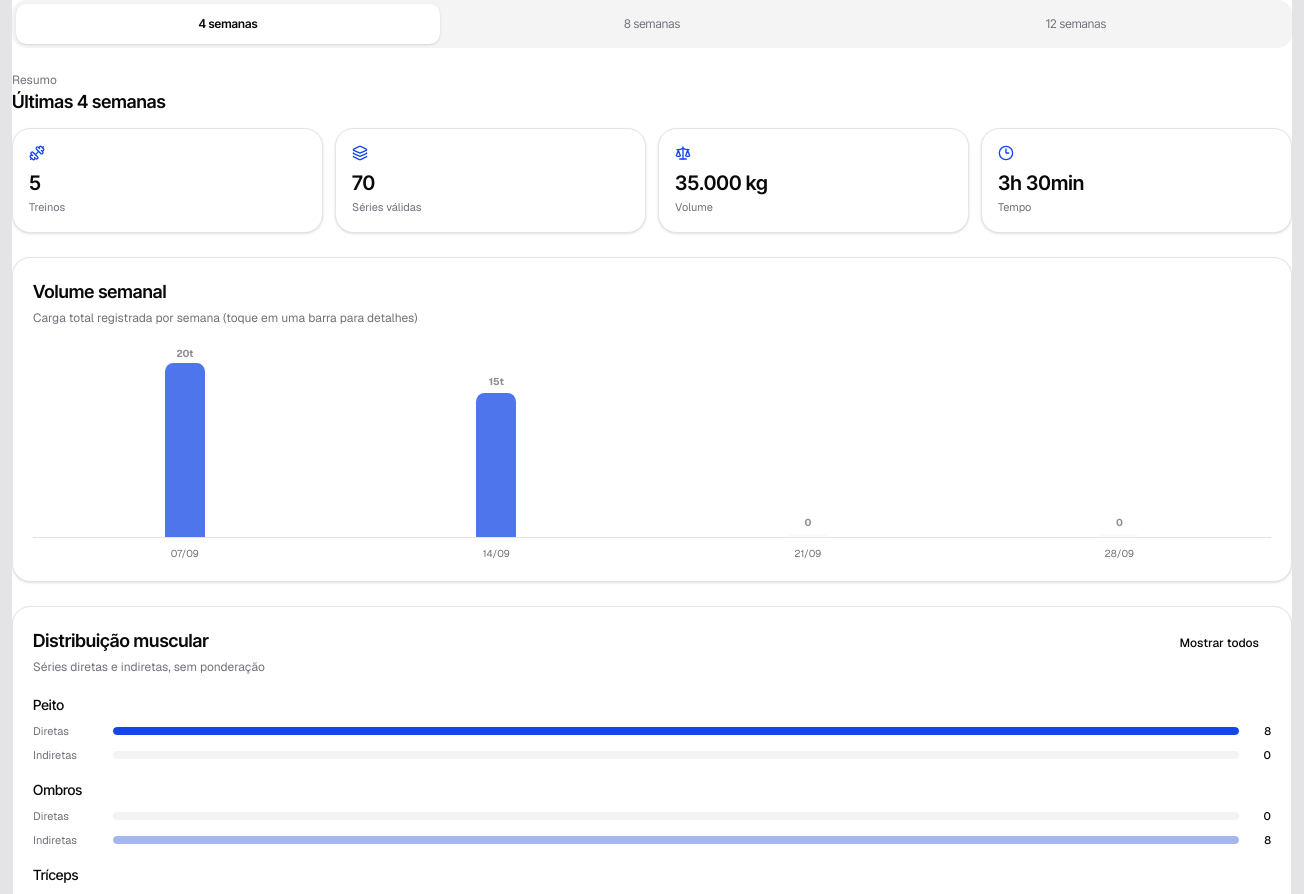
Test: Evolution dashboard › carrega 4, 8 e 12 semanas e impede resposta antiga de sobrescrever a nova
Check: the heading "Últimas 4 semanas" is shown, box [12, 88, 166, 116]
Click the button "8 semanas" at (652,24), box [440, 4, 864, 44]
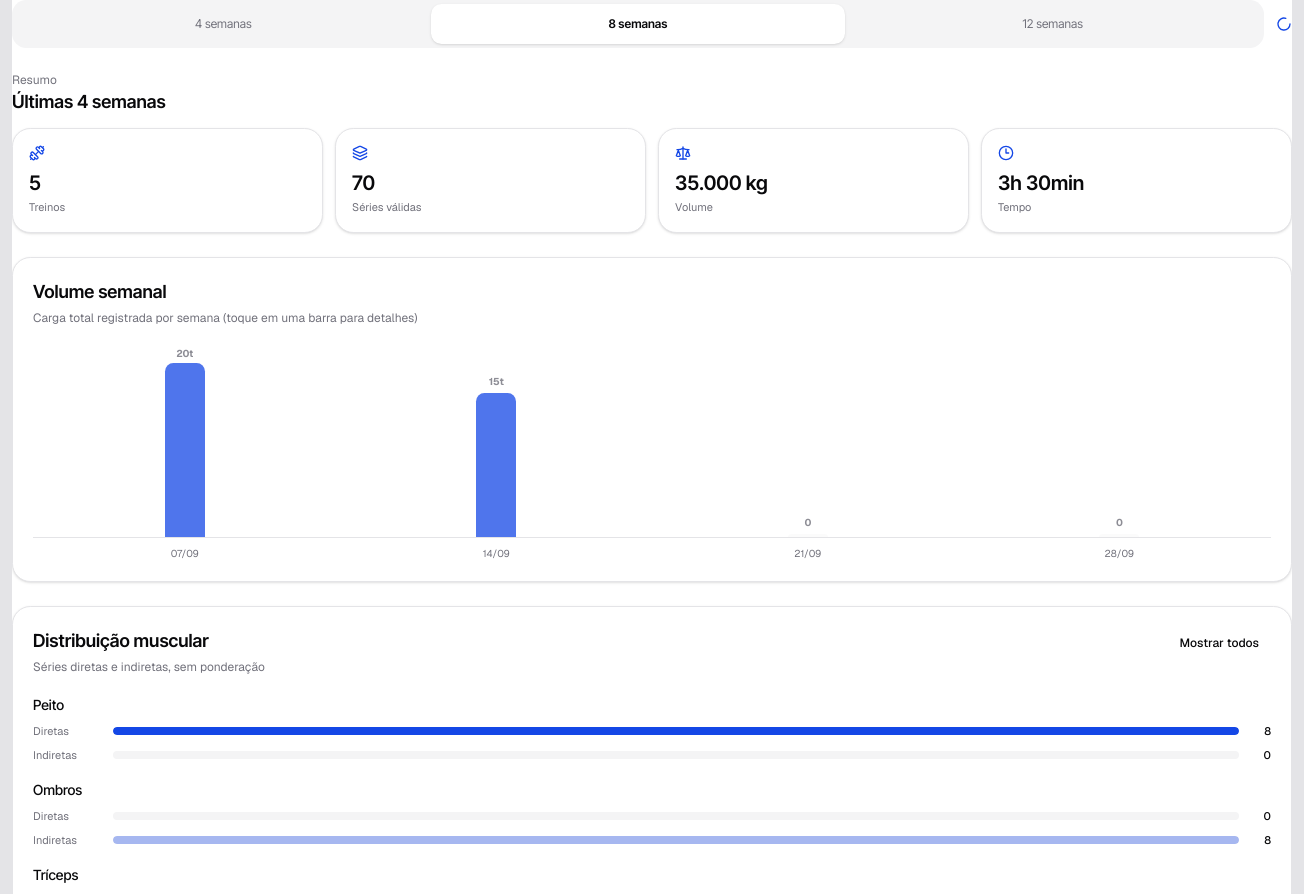
Click the button "12 semanas" at (1053,24), box [845, 4, 1260, 44]
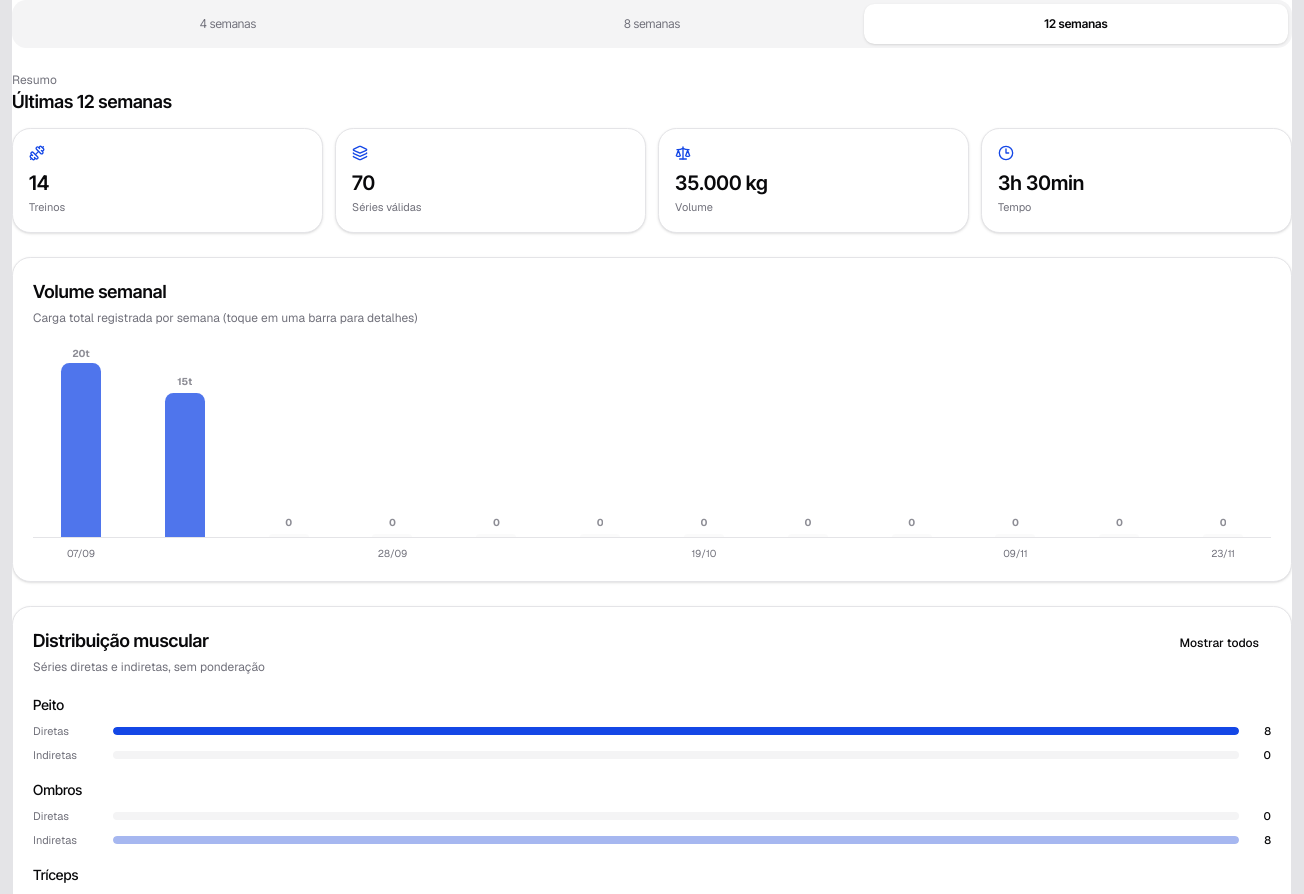
Check: the text "14" is shown, box [29, 171, 49, 195]
Check: the heading "Últimas 12 semanas" is shown, box [12, 88, 172, 116]
